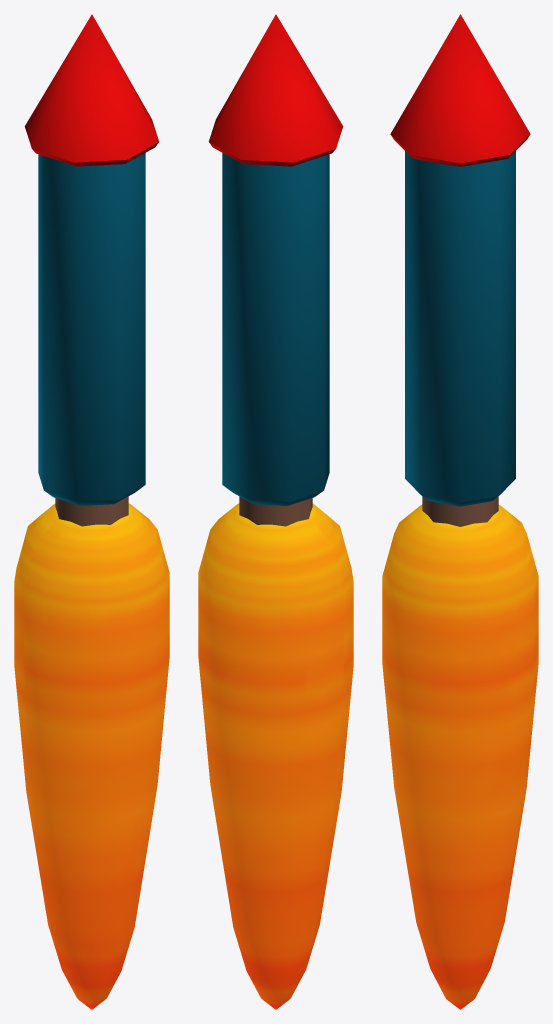
The model's file is rocket.glb.
3 views of the same model, side by side, from view 1: azimuth 30°, elevation 25°; view 2: azimuth 150°, elevation 25°; view 3: azimuth 270°, elevation 25° (orthographic).
Visible parts, largest first — view 1: Cylinder; view 2: Cylinder; view 3: Cylinder.
Boxes of the visible parts, <box> form: Cylinder: <box>14,14,169,1009</box>; Cylinder: <box>198,14,353,1009</box>; Cylinder: <box>382,14,538,1009</box>.
Size of the model in its own units: 2.81 by 19.77 by 2.81.
2 materials, 2 textured.
